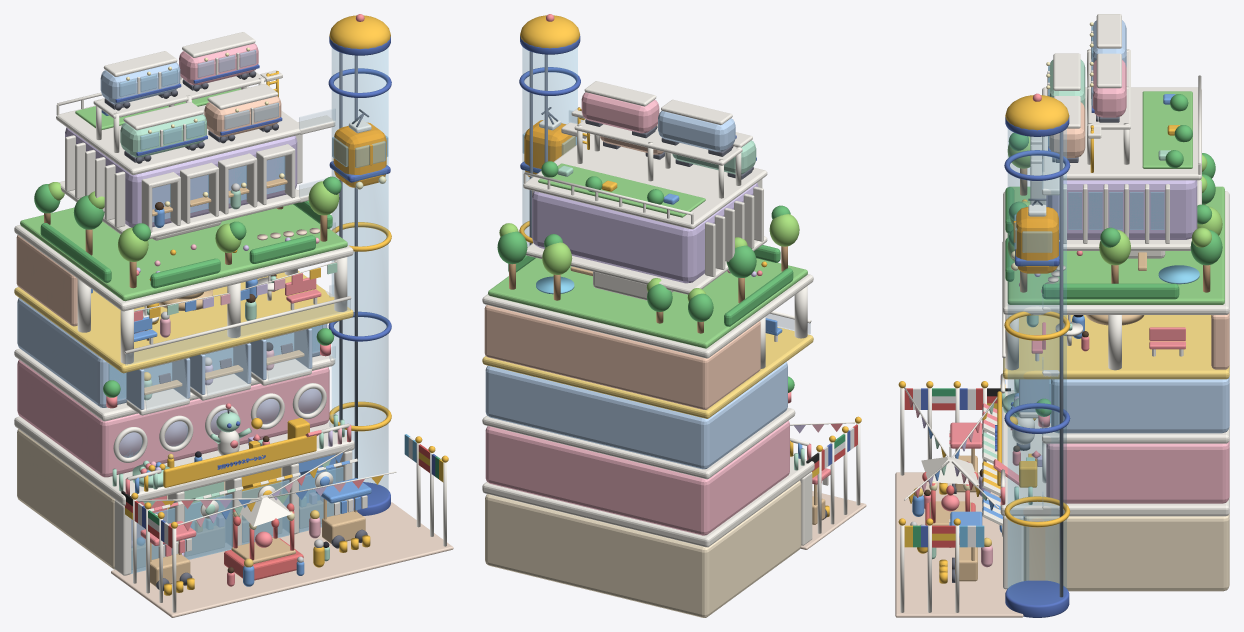
3 renders of one model, left to right at view 1: azimuth 30°, elevation 25°; view 2: azimuth 150°, elevation 25°; view 3: azimuth 270°, elevation 25°, orthographic. The views are drawn at different scales.
Visible parts, largest first — view 1: エレベーター_ガラスのつつ, 2F_本体, 1F_広場のゆか, 庭_しばふ, 4F_ゆか, 1F_本体, 3F_本体, 5F_本体, 1F_のき（2Fのゆか）, 屋上_ゆか, 庭_ゆか（4Fのやね）, 4F_ひだりのかべ (+63 smaller); view 2: 1F_本体, 2F_本体, 3F_本体, 4F_おくのかべ, 庭_しばふ, 5F_本体, 屋上_ゆか, エレベーター_ガラスのつつ, 1F_のき（2Fのゆか）, 4F_ゆか, 庭_ゆか（4Fのやね）, 3F_ゆか (+29 smaller); view 3: エレベーター_ガラスのつつ, 1F_本体, 2F_本体, 4F_ゆか, 3F_本体, 1F_広場のゆか, 庭_しばふ, 5F_本体, 屋上_ゆか, 1F_のき（2Fのゆか）, 庭_ゆか（4Fのやね）, 屋上_おくのしばふ (+42 smaller).
Boxes of the visible parts, <box> form: エレベーター_ガラスのつつ: <box>332,48,388,505</box>; 2F_本体: <box>17,360,329,477</box>; 1F_広場のゆか: <box>111,502,453,617</box>; 庭_しばふ: <box>20,204,347,301</box>; 4F_ゆか: <box>14,270,353,373</box>; 1F_本体: <box>17,429,282,569</box>; 3F_本体: <box>17,298,327,407</box>; 5F_本体: <box>65,127,297,227</box>; 1F_のき（2Fのゆか）: <box>14,416,354,505</box>; 屋上_ゆか: <box>56,86,304,174</box>; 庭_ゆか（4Fのやね）: <box>14,225,353,311</box>; 4F_ひだりのかべ: <box>16,235,77,326</box>; 1F_本体: <box>485,480,801,617</box>; 2F_本体: <box>485,420,789,535</box>; 3F_本体: <box>485,362,787,469</box>; 4F_おくのかべ: <box>484,305,712,409</box>; 庭_しばふ: <box>488,258,807,348</box>; 5F_本体: <box>532,183,758,283</box>; 屋上_ゆか: <box>523,134,767,229</box>; エレベーター_ガラスのつつ: <box>522,47,577,246</box>; 1F_のき（2Fのゆか）: <box>482,456,814,547</box>; 4F_ゆか: <box>482,327,813,418</box>; 庭_ゆか（4Fのやね）: <box>482,274,813,358</box>; 3F_ゆか: <box>482,408,795,479</box>; エレベーター_ガラスのつつ: <box>1008,129,1066,604</box>; 1F_本体: <box>1023,513,1229,591</box>; 2F_本体: <box>1046,440,1229,503</box>; 4F_ゆか: <box>1003,315,1229,379</box>; 3F_本体: <box>1051,376,1229,433</box>; 1F_広場のゆか: <box>895,472,1023,617</box>; 庭_しばふ: <box>1007,186,1224,304</box>; 5F_本体: <box>1046,180,1197,239</box>; 屋上_ゆか: <box>1042,87,1201,180</box>; 1F_のき（2Fのゆか）: <box>1000,390,1229,516</box>; 庭_ゆか（4Fのやね）: <box>1003,191,1229,314</box>; 屋上_おくのしばふ: <box>1142,91,1192,168</box>.
Bounding box in the file's own units: 149 × 246 × 146.
